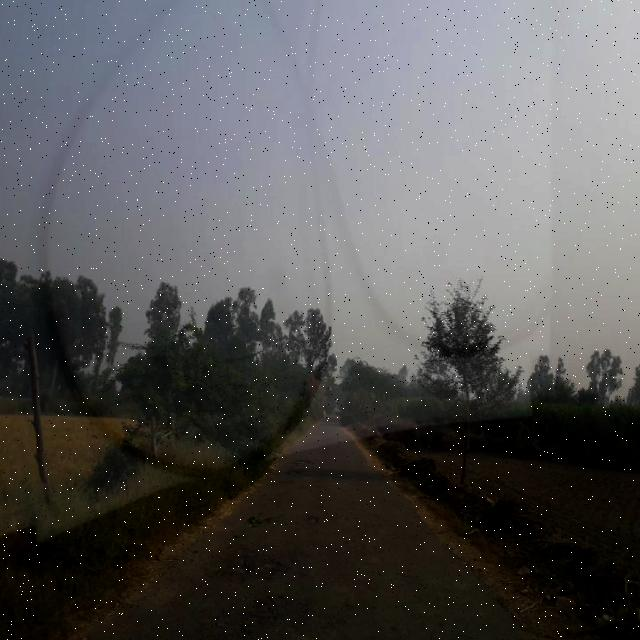D40: (206, 543, 282, 585), (203, 596, 278, 638)
